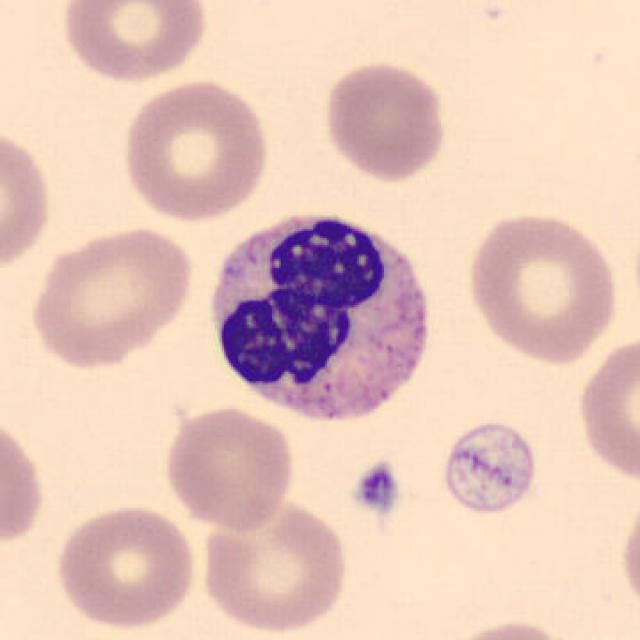Neutrophil: (197, 198, 443, 436)
Platelets: (436, 418, 540, 518), (348, 460, 402, 517)
RBC: (25, 220, 199, 370), (462, 208, 622, 367), (117, 76, 274, 224), (197, 496, 352, 636), (51, 501, 201, 631), (160, 402, 299, 532), (318, 58, 452, 185), (55, 0, 213, 86), (572, 330, 640, 488), (436, 418, 542, 518), (0, 122, 55, 278), (0, 409, 48, 554), (439, 617, 576, 640), (617, 490, 640, 617)
